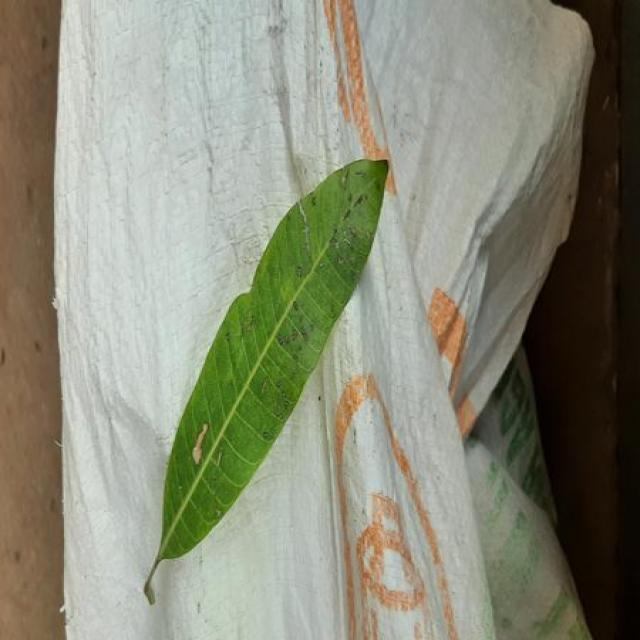Anthracnose: (143, 161, 388, 603)
mango: (143, 160, 388, 603)
